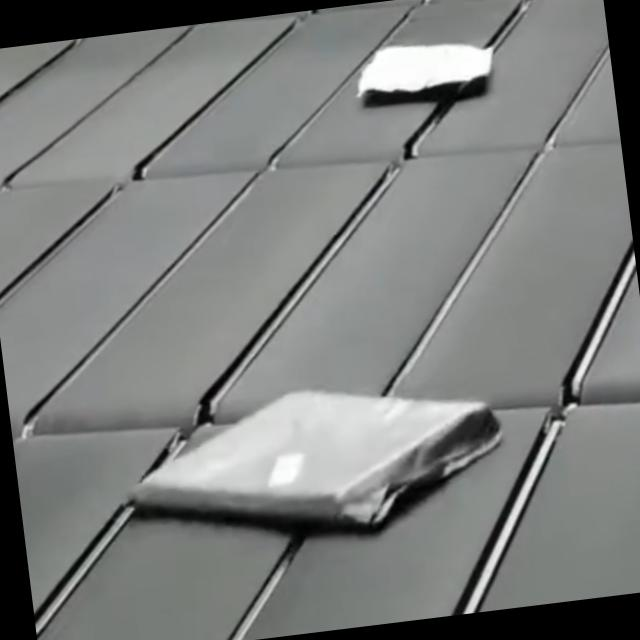mailer: (119, 369, 512, 548), (354, 33, 500, 105)
